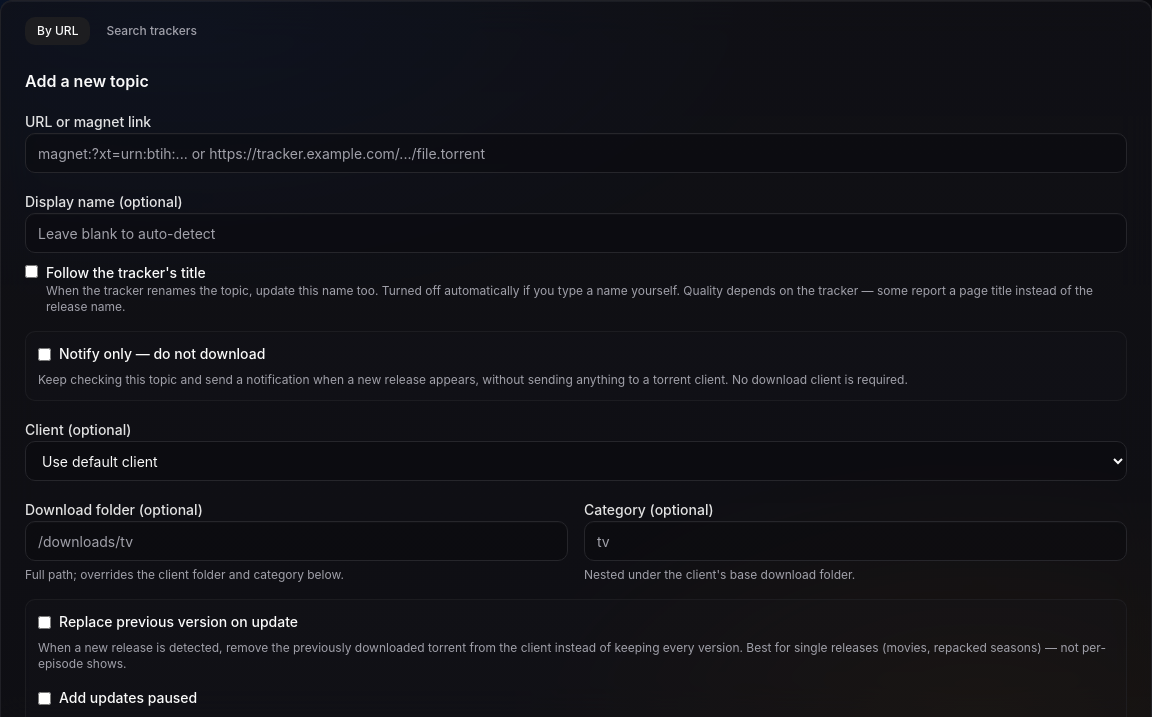
Test: AddTopicCard › checks the notifier list for a default (is_default=false)
Expected: the text "This topic has no notifier" is not shown
Click the checkbox labelled "Notify only — do not download" at (44, 354), box [38, 348, 51, 360]
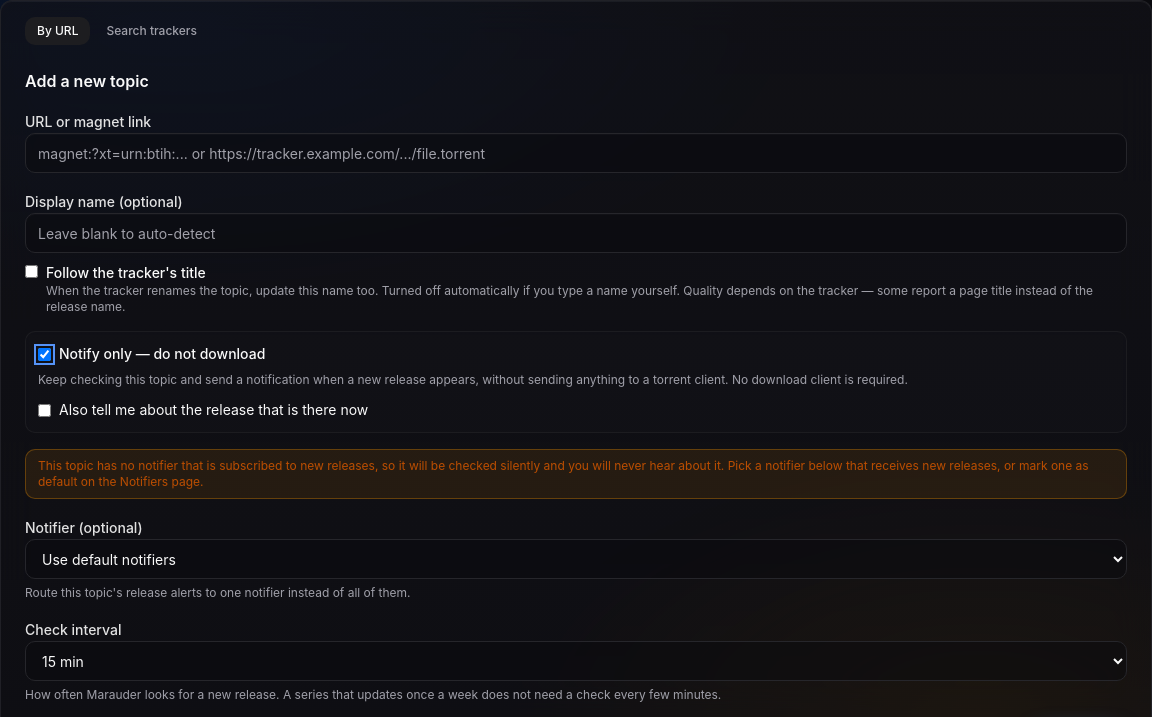
Result: the text "This topic has no notifier" is shown at [38, 458, 1089, 489]
Select "Alerts" in the dropdown labelled "Notifier (optional)" at (576, 559), box [25, 539, 1127, 579]
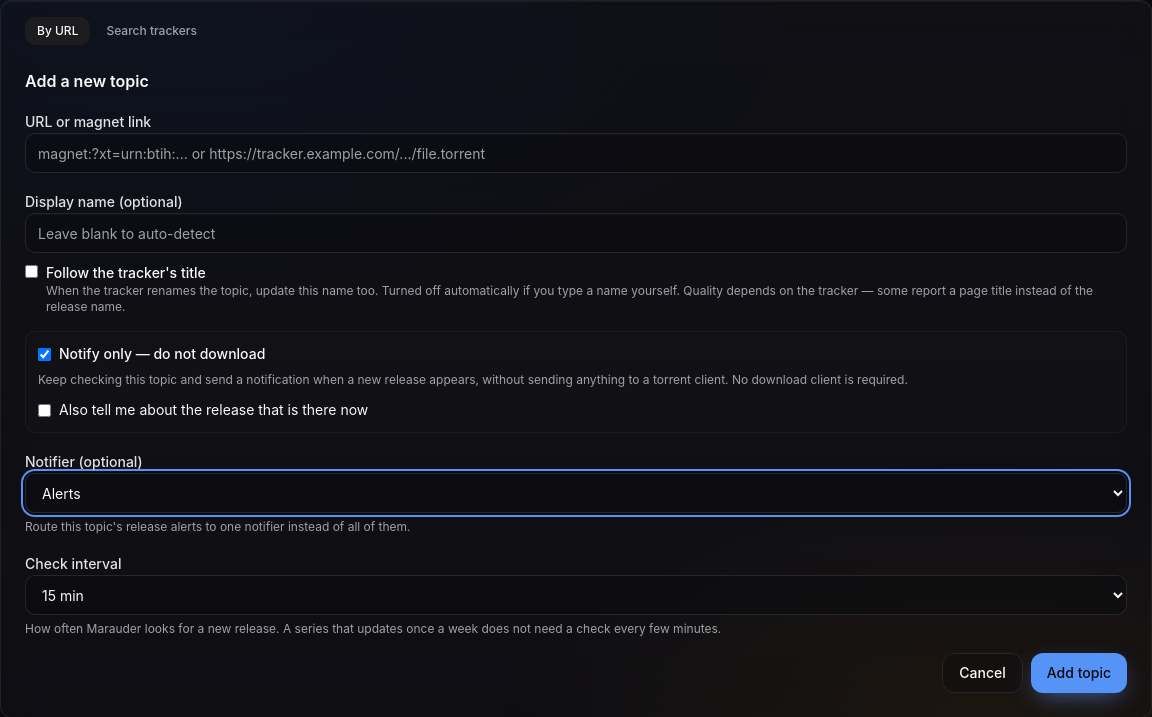
Result: the text "This topic has no notifier" is gone
